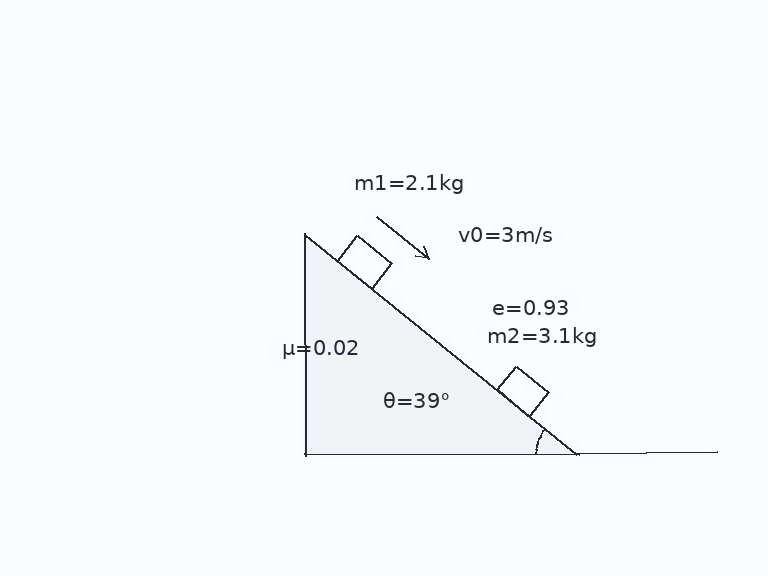block: (335, 233, 393, 290), (494, 364, 550, 418)
ramp: (303, 232, 578, 456)
